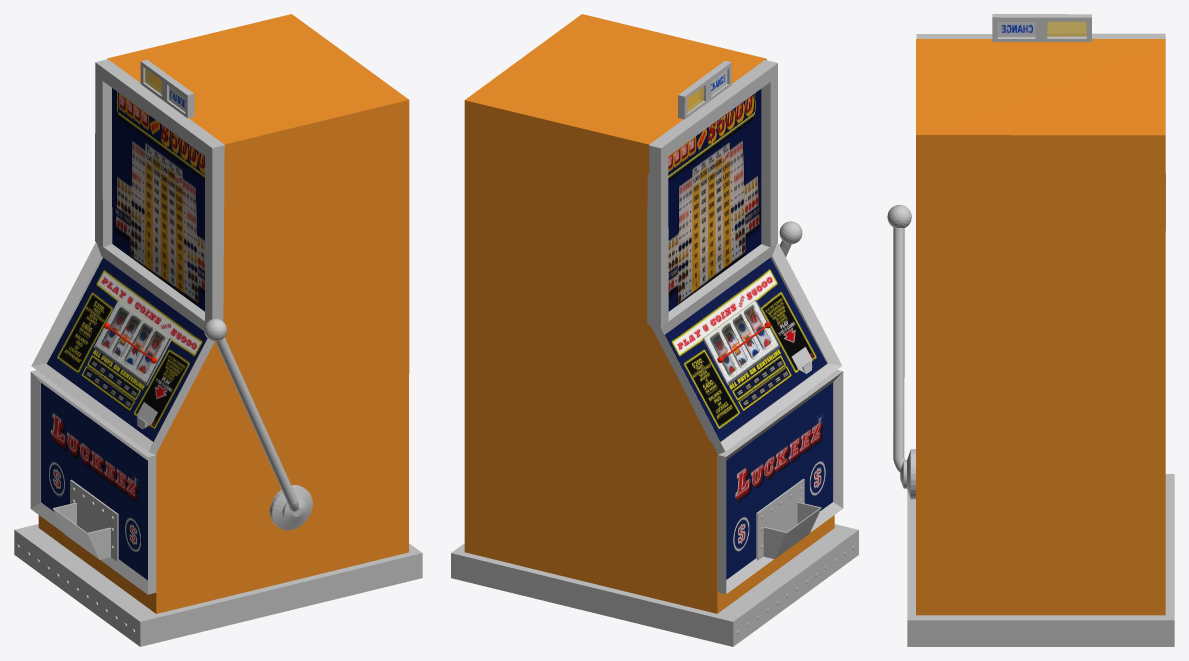
File: 6MKGGW8FC8M49DPWBN3ZHZQHA.fbx
3 views of the same model, side by side, from view 1: azimuth 30°, elevation 25°; view 2: azimuth 150°, elevation 25°; view 3: azimuth 270°, elevation 25° (orthographic). The views are drawn at different scales.
Parts seen in each view (by area): view 1: Object_color_0.976500-0.572500-0.137300.jpg, Object_color_0.898000-0.894100-0.890200.jpg, Object_SLOTTOP2.jpg, Object_SLOTMID.jpg, Object_SLOTLOGO.jpg, Object_SLOTFRUT.jpg; view 2: Object_color_0.976500-0.572500-0.137300.jpg, Object_color_0.898000-0.894100-0.890200.jpg, Object_SLOTTOP2.jpg, Object_SLOTMID.jpg, Object_SLOTLOGO.jpg, Object_SLOTFRUT.jpg; view 3: Object_color_0.976500-0.572500-0.137300.jpg, Object_color_0.898000-0.894100-0.890200.jpg, Object_color_0.968600-0.803900-0.298000.jpg, Object_SLOTTOP.jpg, Object_default-grey.jpg.
Part boxes in pixels (box(x1,y1,x2,y2)): Object_color_0.976500-0.572500-0.137300.jpg: box(38, 14, 409, 613); Object_color_0.898000-0.894100-0.890200.jpg: box(14, 59, 422, 646); Object_SLOTTOP2.jpg: box(112, 88, 204, 311); Object_SLOTMID.jpg: box(47, 257, 207, 441); Object_SLOTLOGO.jpg: box(41, 383, 147, 580); Object_SLOTFRUT.jpg: box(94, 300, 171, 385); Object_color_0.976500-0.572500-0.137300.jpg: box(464, 14, 834, 613); Object_color_0.898000-0.894100-0.890200.jpg: box(451, 60, 858, 646); Object_SLOTTOP2.jpg: box(668, 89, 761, 311); Object_SLOTMID.jpg: box(665, 257, 826, 441); Object_SLOTLOGO.jpg: box(726, 382, 832, 579); Object_SLOTFRUT.jpg: box(702, 300, 780, 385); Object_color_0.976500-0.572500-0.137300.jpg: box(916, 39, 1165, 615); Object_color_0.898000-0.894100-0.890200.jpg: box(893, 14, 1174, 646); Object_color_0.968600-0.803900-0.298000.jpg: box(1047, 21, 1086, 36); Object_SLOTTOP.jpg: box(997, 22, 1035, 36); Object_default-grey.jpg: box(887, 204, 911, 228).
Bounding box in the file's own units: 1.52 × 2.5 × 1.22.
